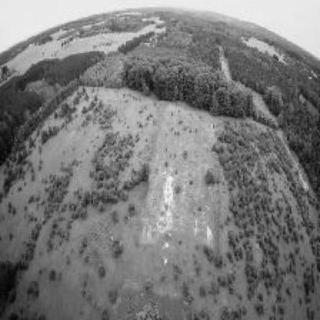other: (140, 157, 208, 241)
